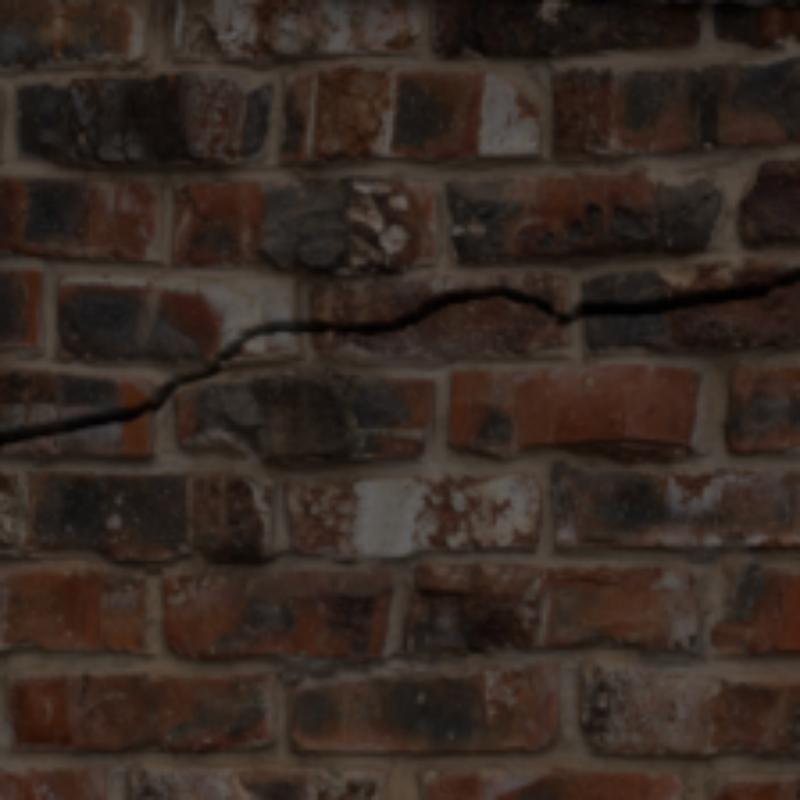pothole: (0, 268, 796, 443)
